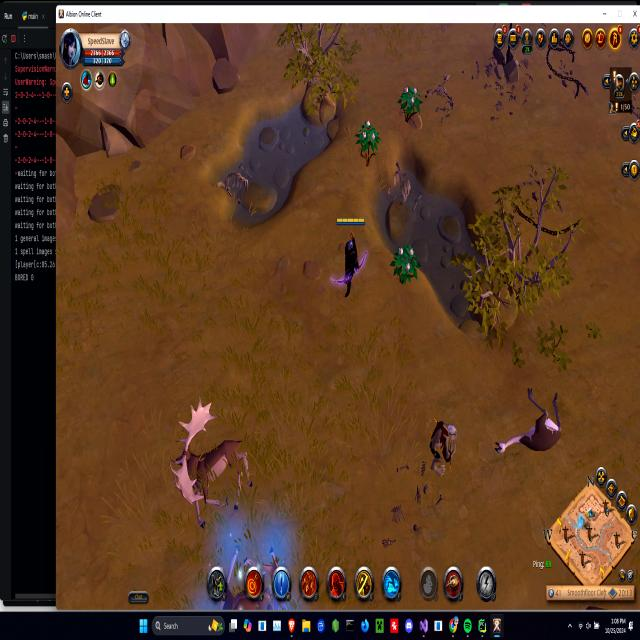hide: (392, 240, 419, 290), (356, 118, 380, 165), (400, 82, 422, 125)
mob: (170, 392, 251, 532), (493, 384, 564, 460)
ore: (426, 405, 460, 480)
red: (334, 214, 367, 300)
